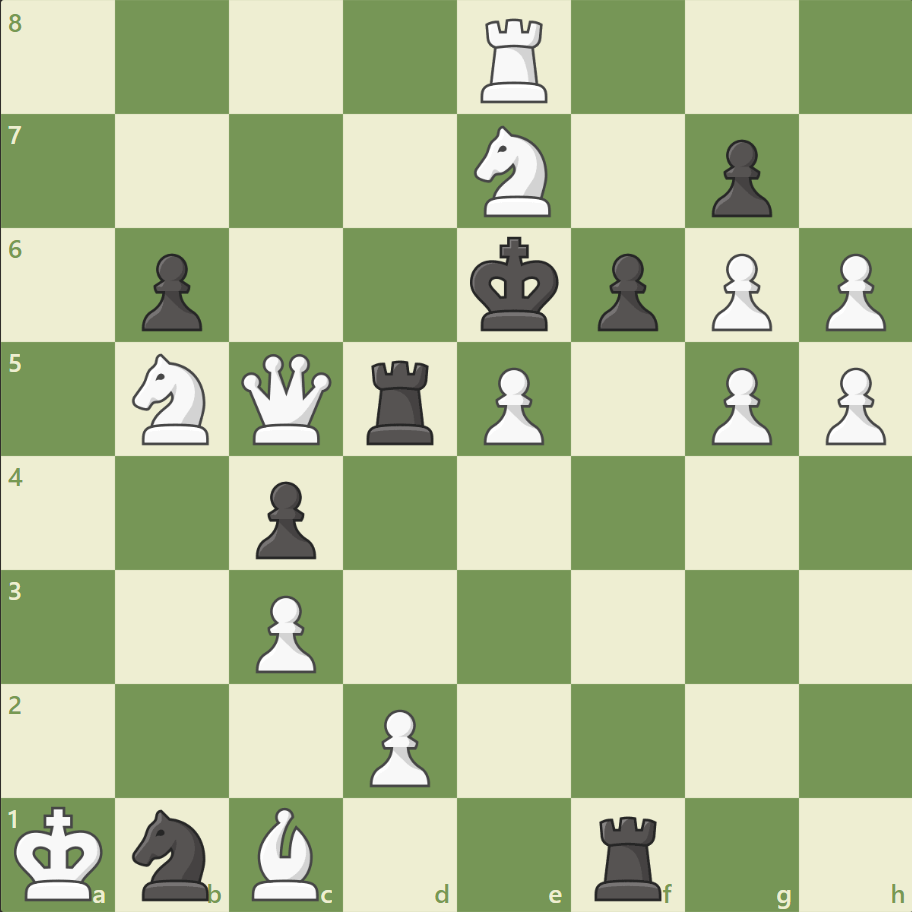B: (244, 801, 328, 904)
K: (11, 798, 111, 906)
N: (124, 348, 222, 450), (465, 121, 562, 223)
P: (701, 246, 776, 337), (474, 359, 549, 450), (701, 359, 776, 450), (247, 586, 322, 677), (815, 246, 889, 337), (815, 359, 889, 450), (361, 700, 435, 791)
Q: (237, 349, 336, 449)
R: (473, 12, 556, 109)
k: (465, 231, 565, 339)
n: (124, 802, 222, 904)
p: (701, 132, 776, 223), (133, 246, 208, 337), (247, 473, 322, 564), (588, 246, 662, 337)
r: (587, 806, 670, 904), (360, 352, 442, 449)
